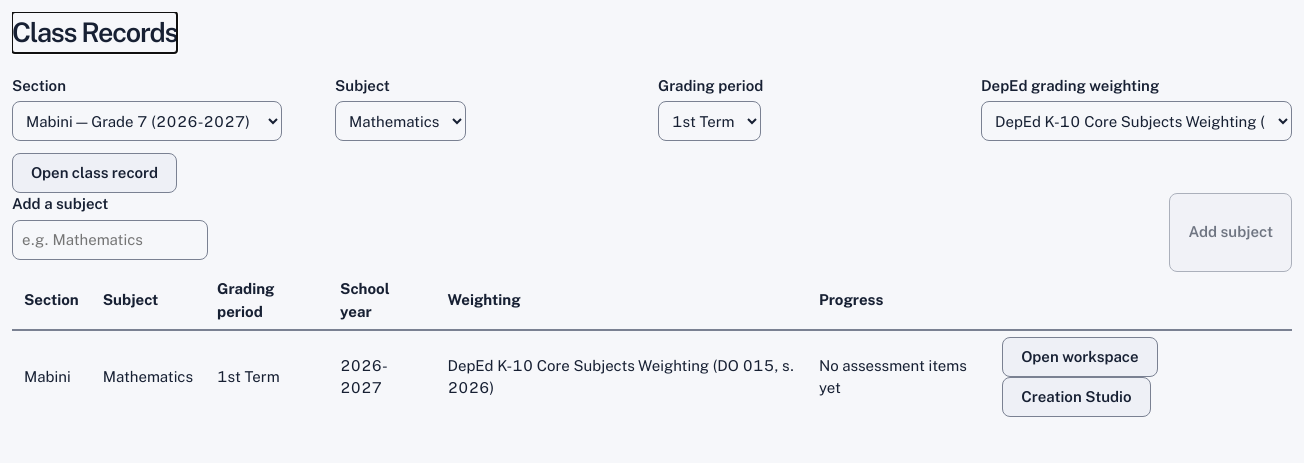
Scenario: ClassRecordsScreen › refreshes the progress summary after returning from a workspace, not just on first mount
This screenshot has width=1304, height=463.
Check: the text "No assessment items yet" is shown, box [807,330,990,423]
Click the button "Open workspace": (1080, 357) [1002,337,1158,377]
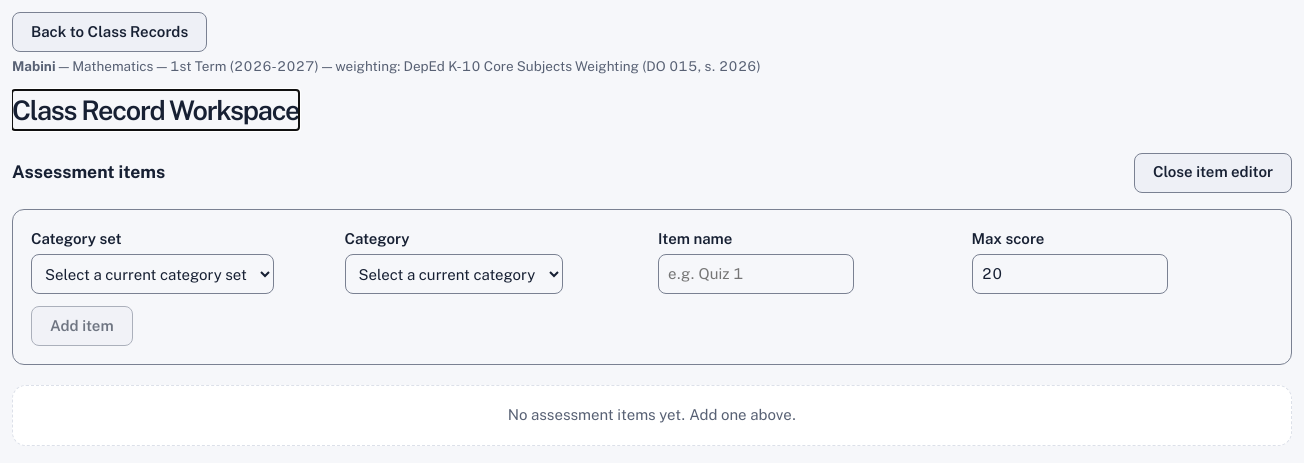
Check: the heading "Class Record Workspace" is shown, box [12,90,299,130]
Click the button "Back to Class Records": (110, 32) [12,12,207,52]
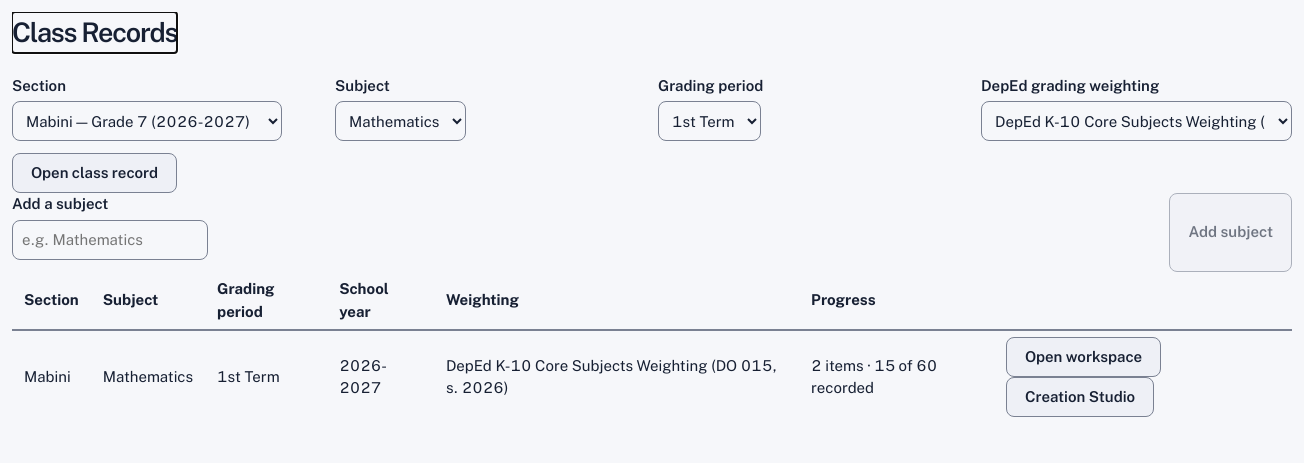
Check: the text "2 items · 15 of 60 recorded" is shown, box [799,330,994,423]
